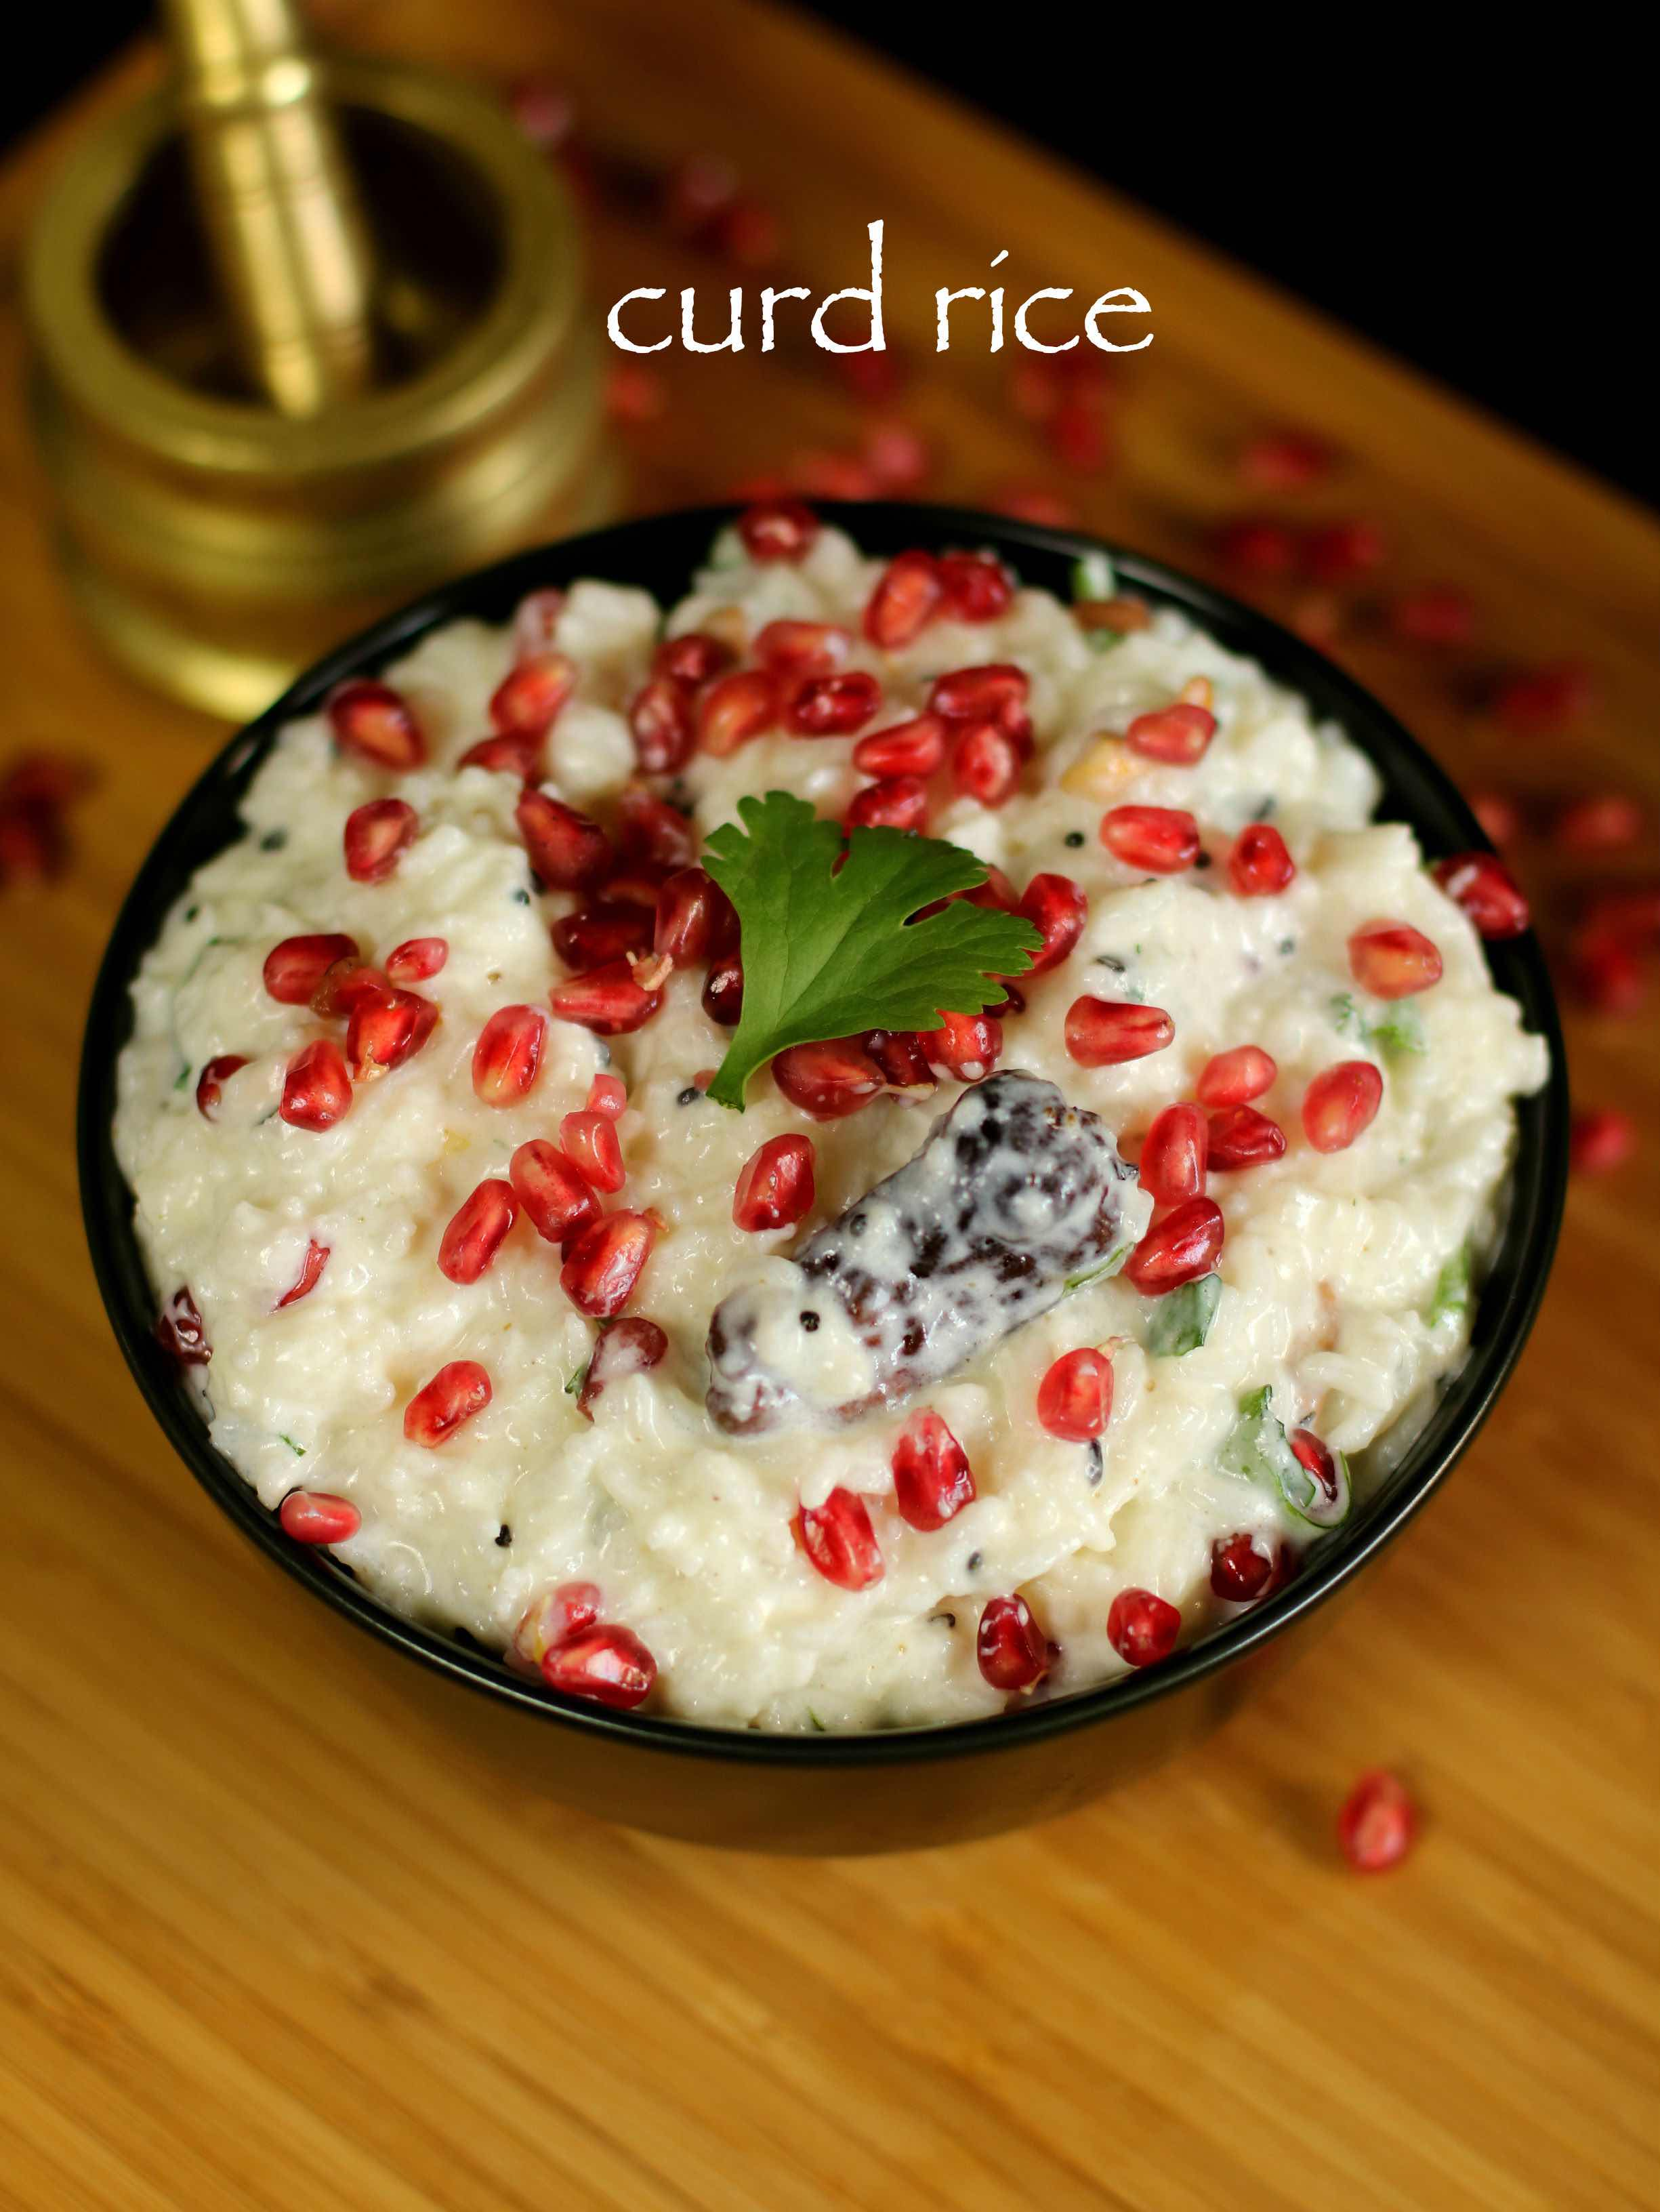curd_rice: (134, 551, 1507, 1807)
